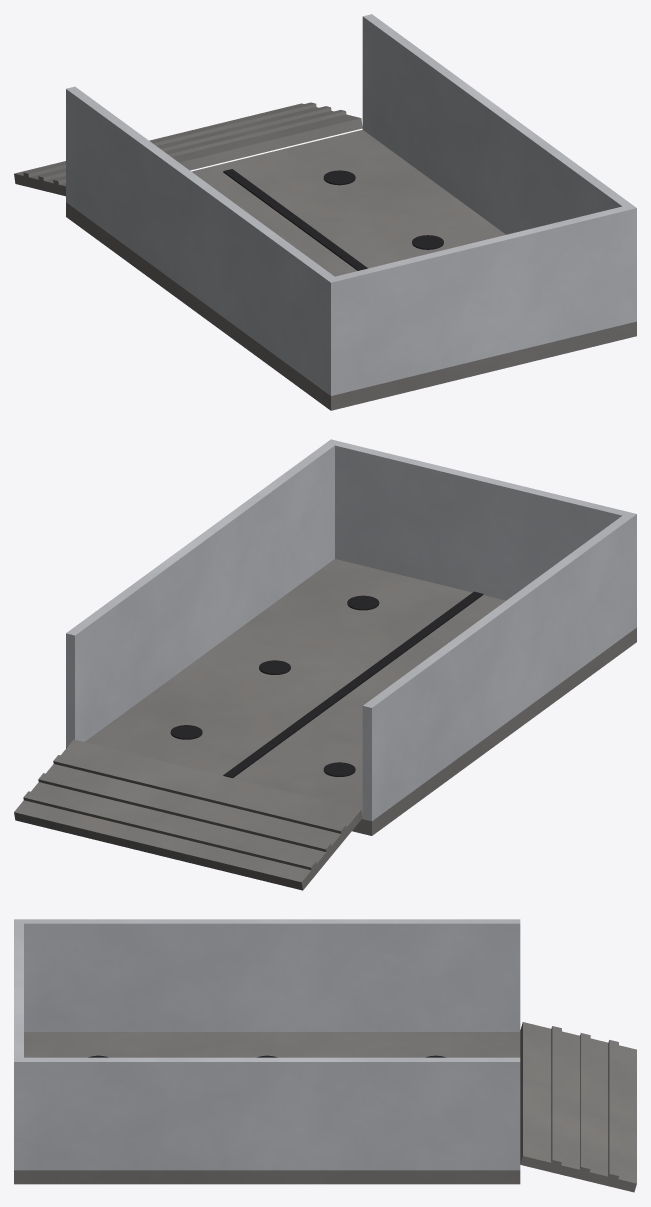
The model's file is rover25_cargo_bed_s_tailgate_open.glb.
3 renders of one model, top to bottom at view 1: azimuth 30°, elevation 25°; view 2: azimuth 150°, elevation 25°; view 3: azimuth 270°, elevation 25°, orthographic. The views are drawn at different scales.
Parts seen in each view (by area): view 1: side_walls, front_wall, floor, tailgate, tie_down_rails, sockets; view 2: side_walls, floor, tailgate, front_wall, tie_down_rails, sockets; view 3: side_walls, floor, tailgate, front_wall.
Boxes of the visible parts, box(x1,y1,x2,y2) form: side_walls: box(66, 14, 636, 395); front_wall: box(335, 206, 627, 393); floor: box(66, 129, 636, 410); tailgate: box(14, 102, 362, 196); tie_down_rails: box(223, 169, 367, 270); sockets: box(323, 170, 443, 249); side_walls: box(66, 439, 636, 821); floor: box(66, 559, 636, 835); tailgate: box(14, 739, 362, 890); front_wall: box(335, 441, 627, 600); tie_down_rails: box(223, 591, 483, 778); sockets: box(170, 595, 379, 776); side_walls: box(14, 919, 520, 1170); floor: box(14, 1032, 520, 1184); tailgate: box(520, 1022, 636, 1192); front_wall: box(14, 923, 23, 1057).
Size of the model in its own units: 1 by 0.4406 by 1.85.
Materials: 3 (2 with a texture image).
